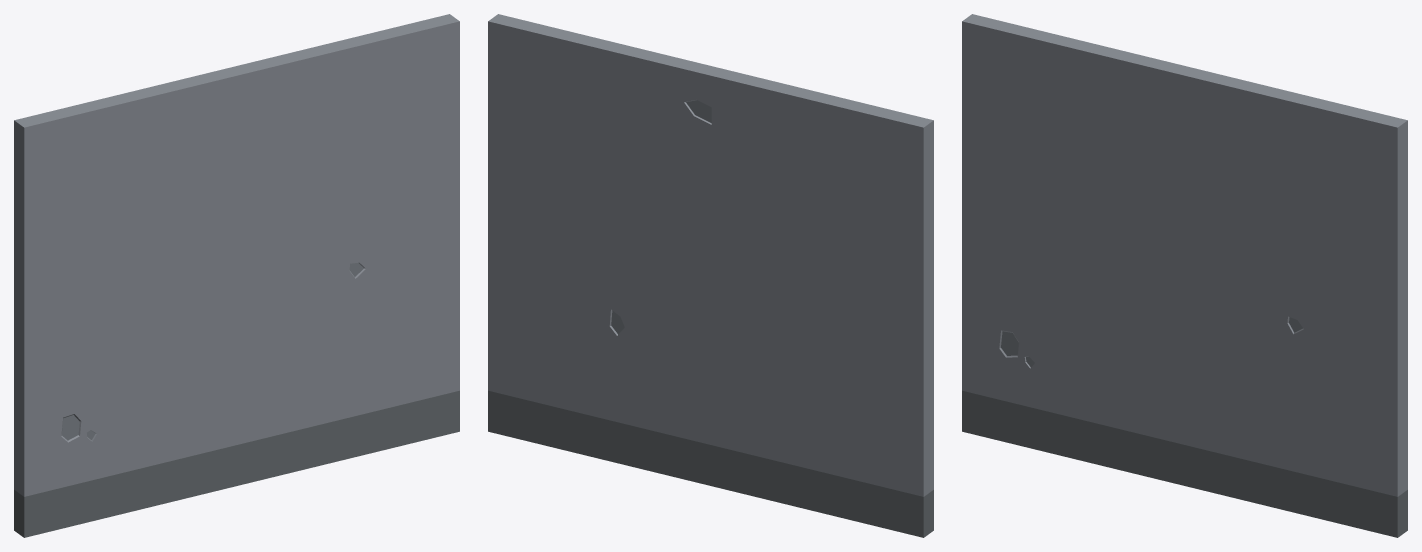
Rendered from Wall3_02.fbx.
3 renders of one model, left to right at view 1: azimuth 30°, elevation 25°; view 2: azimuth 150°, elevation 25°; view 3: azimuth 330°, elevation 25°, orthographic.
Visible parts, largest first — view 1: Wall3_02; view 2: Wall3_02; view 3: Wall3_02.
Boxes of the visible parts, x1,y1,x2,y2 form: Wall3_02: [14, 14, 459, 537]; Wall3_02: [488, 14, 933, 537]; Wall3_02: [962, 14, 1407, 537].
Size of the model in its own units: 1000 by 900 by 40.
